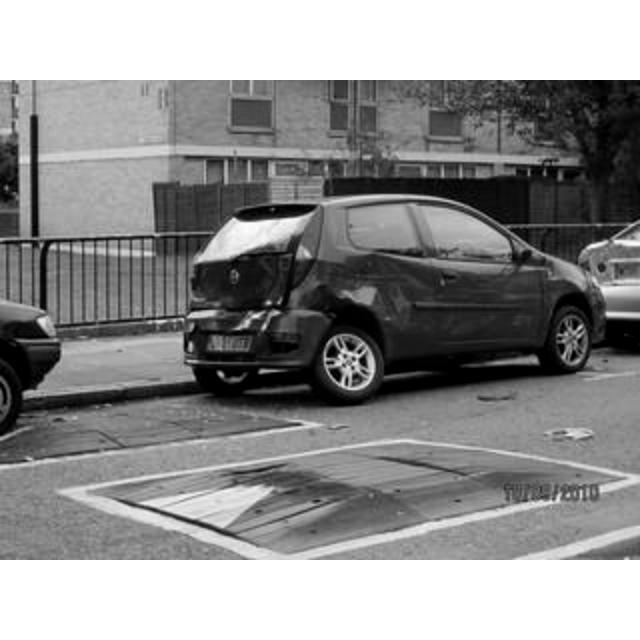boot-dent: (174, 256, 286, 312)
quaterpanel-dent: (306, 248, 408, 338)
rear-bumper-dent: (182, 306, 288, 366)
